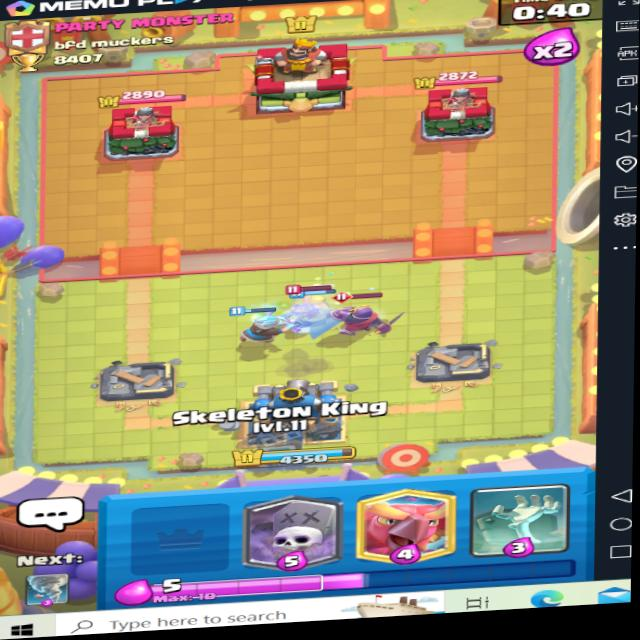archer-queen: (283, 294, 348, 343)
evo-knight: (332, 285, 404, 342)
